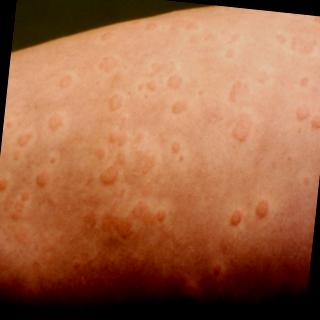urticaria: (80, 145, 136, 198)
